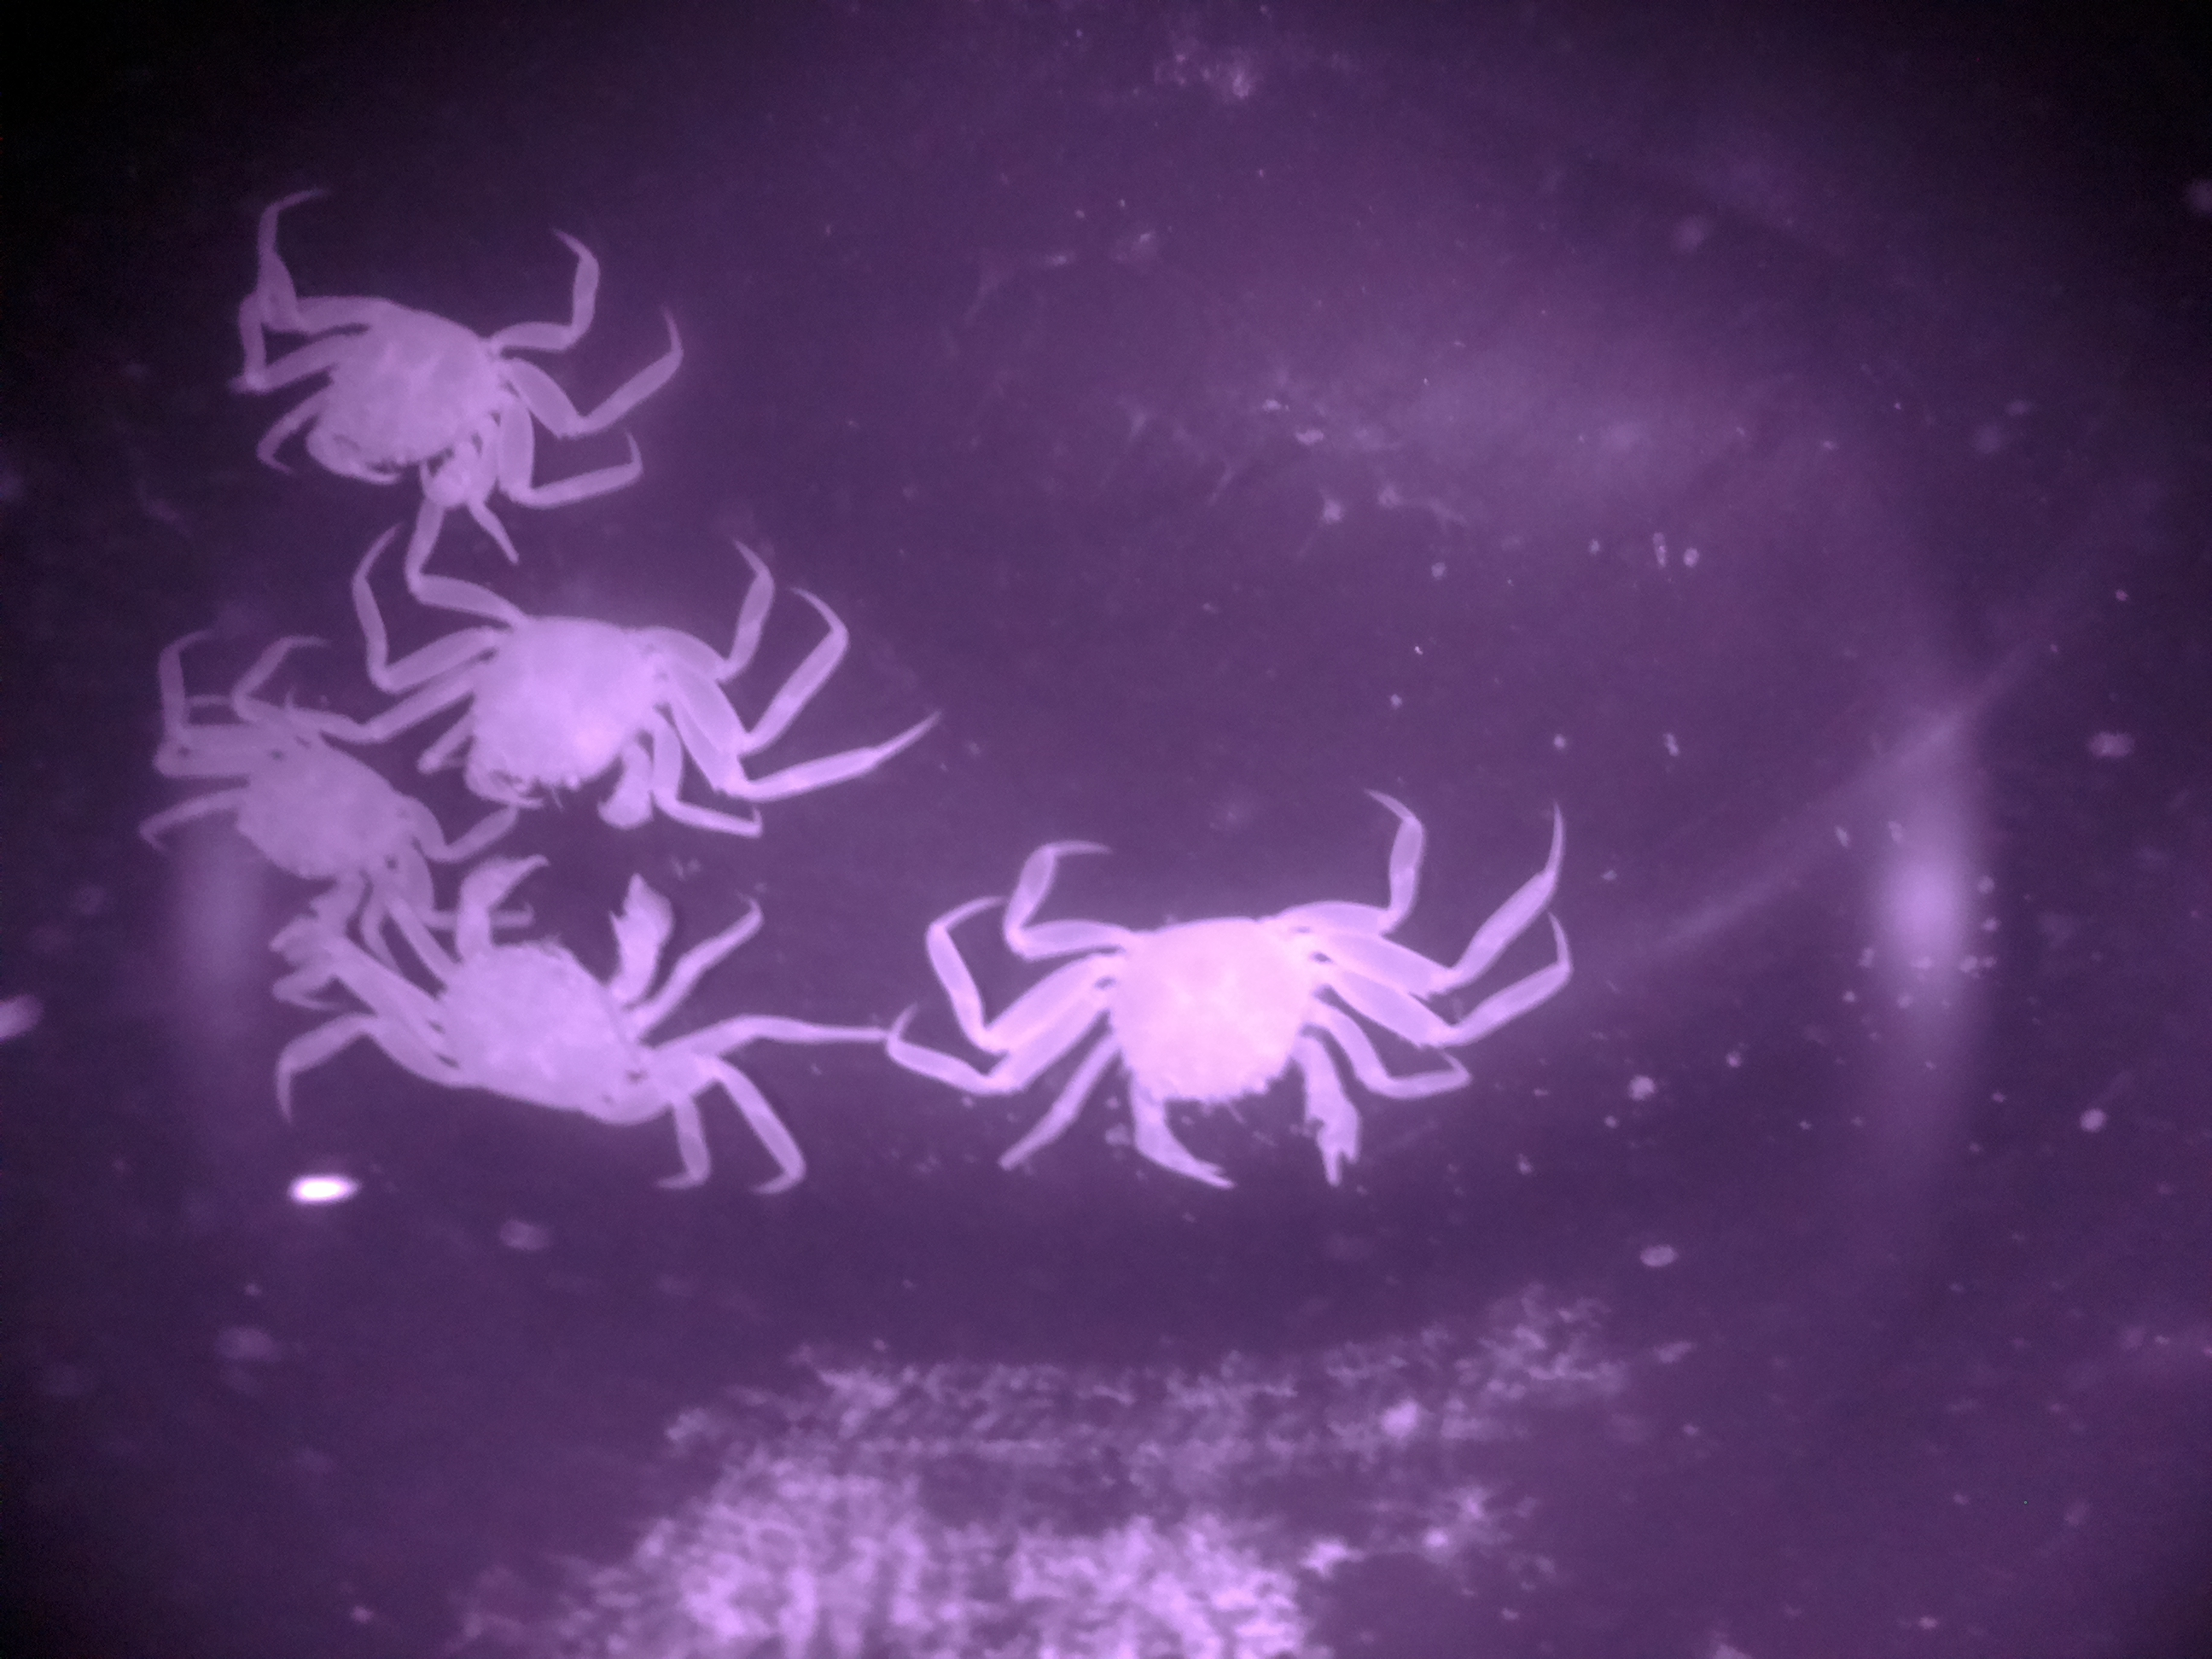Crab: (1010, 835, 1418, 1244), (366, 829, 733, 1192), (209, 214, 582, 538), (401, 565, 754, 856)
